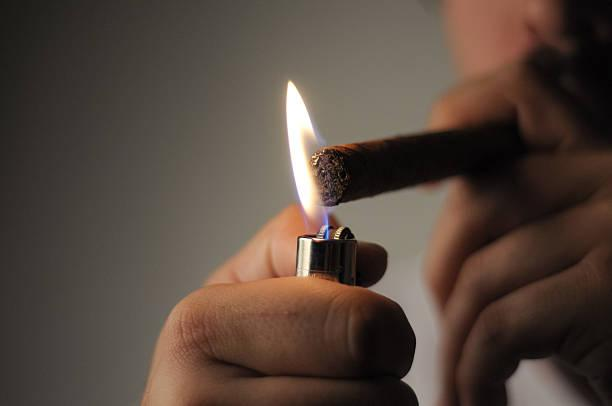Fire: (281, 79, 328, 231)
